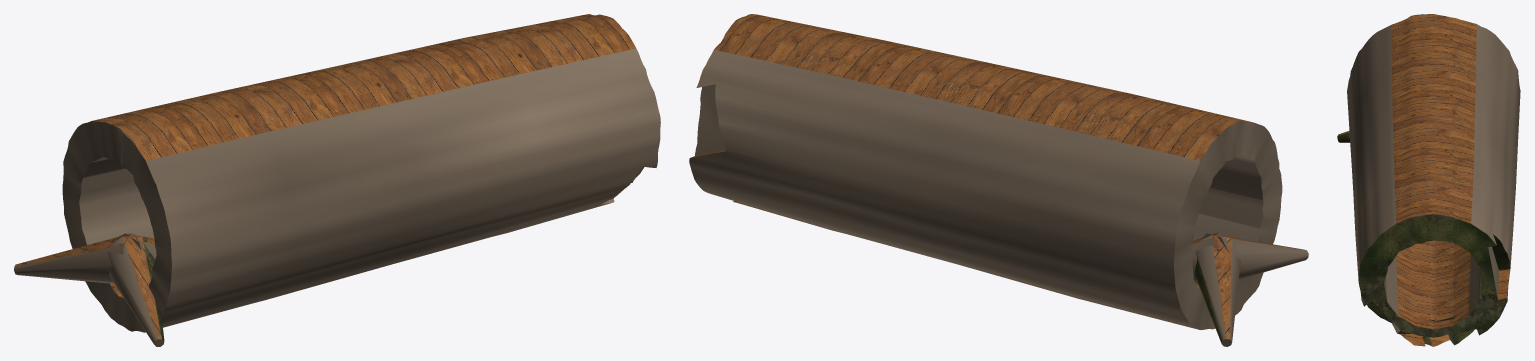
File: hollow-log-v01.glb
The picture shows the model from 3 angles, left to right: view 1: azimuth 30°, elevation 25°; view 2: azimuth 150°, elevation 25°; view 3: azimuth 270°, elevation 25°; orthographic projection. The views are drawn at different scales.
Visible parts, largest first — view 1: hollow-log; view 2: hollow-log; view 3: hollow-log.
Boxes of the visible parts, x1,y1,x2,y2 form: hollow-log: [14, 14, 660, 346]; hollow-log: [689, 14, 1308, 346]; hollow-log: [1337, 14, 1520, 346].
Bounding box in the file's own units: 4.68 × 1.59 × 1.7.
Materials: 3 (2 with a texture image).
